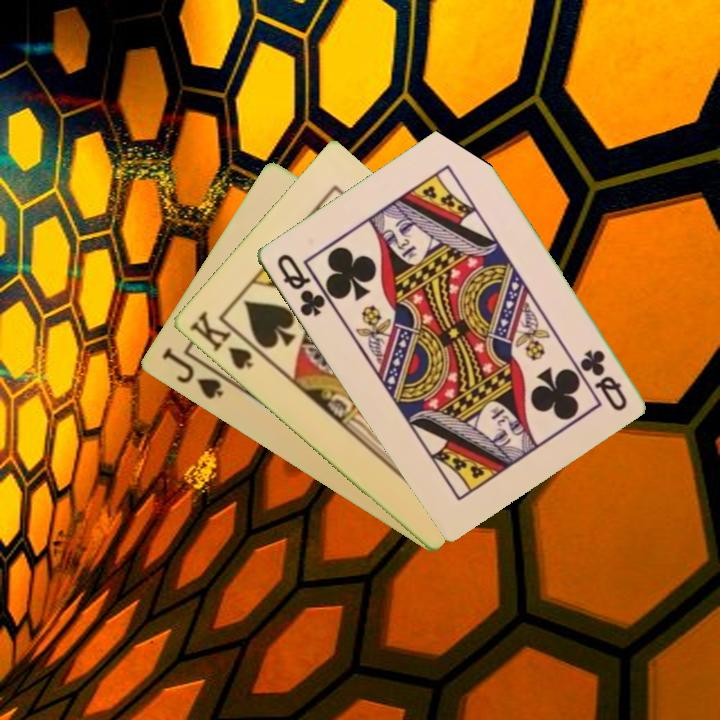Js: (158, 344, 226, 403)
Ks: (185, 307, 255, 373)
Qc: (272, 250, 328, 319), (577, 345, 630, 414)
